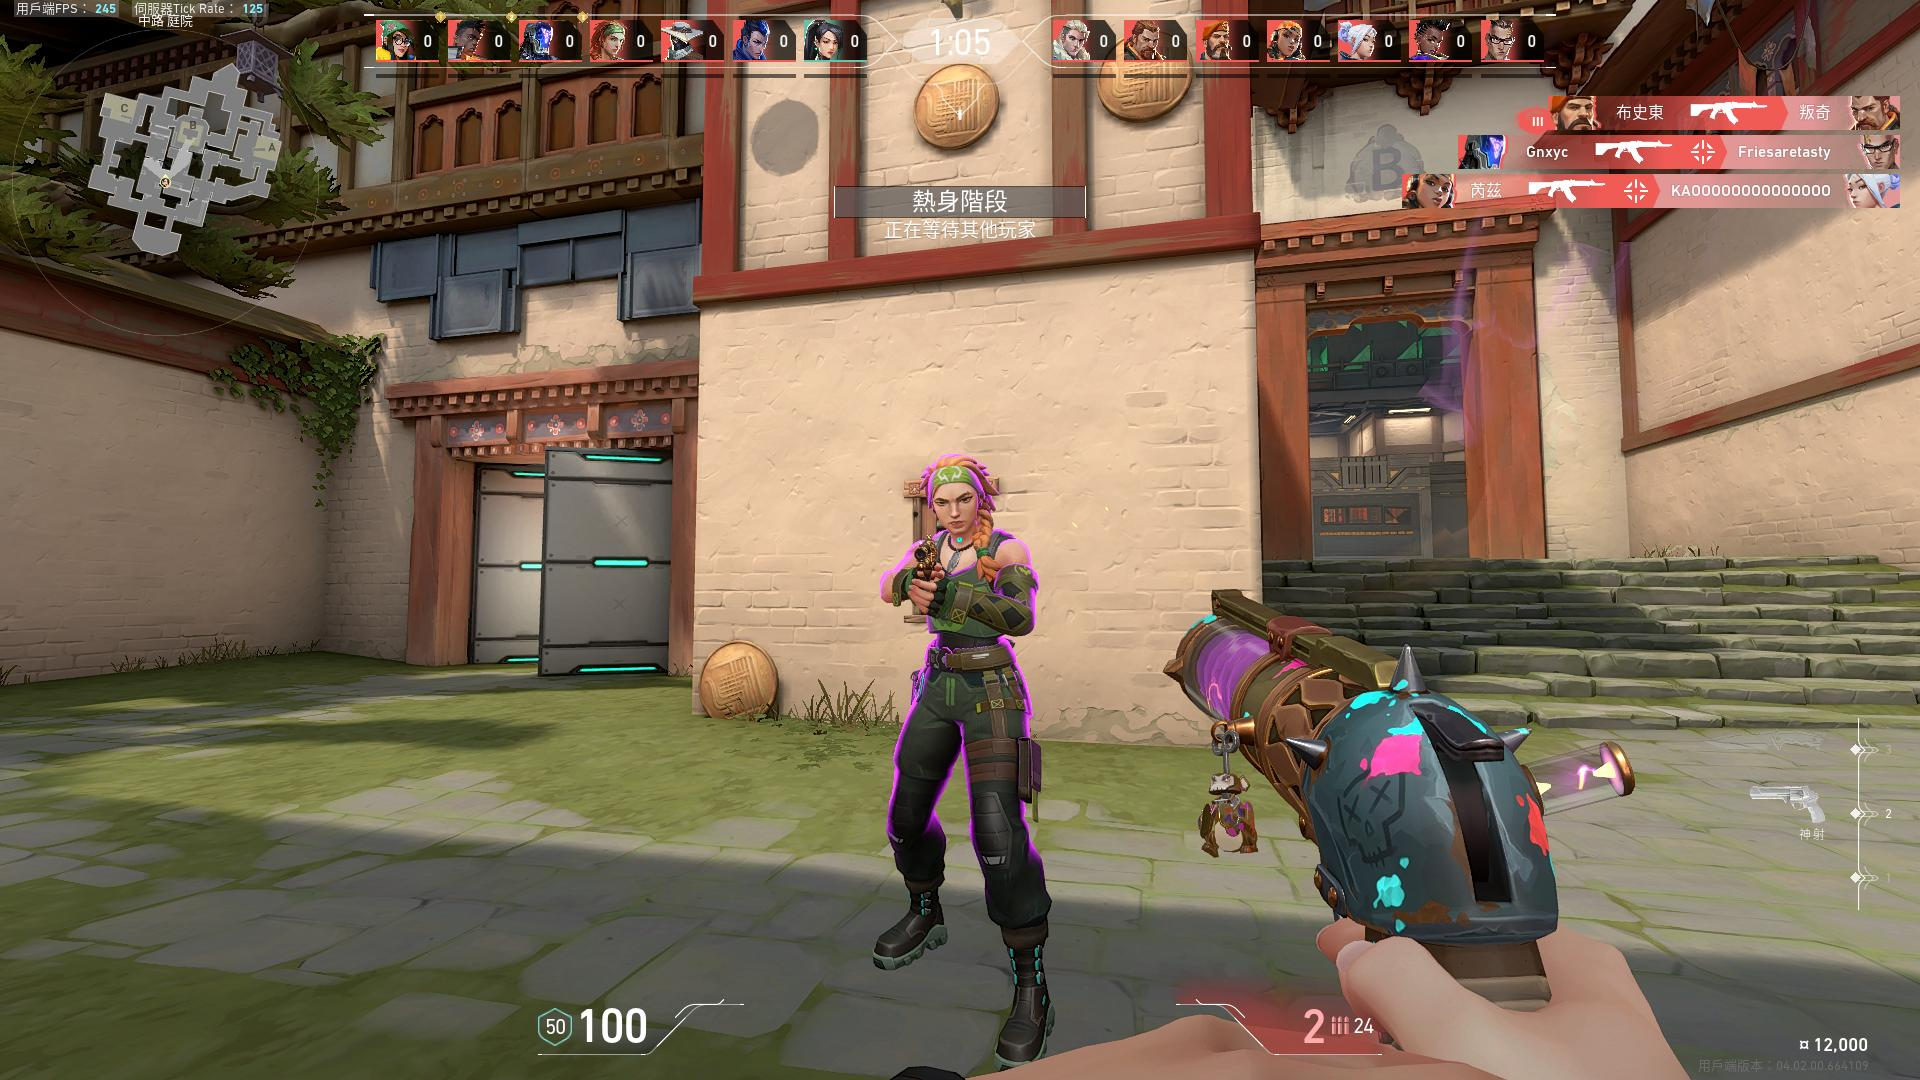enemyBody: (934, 541, 998, 669)
enemyHead: (940, 483, 978, 529)
